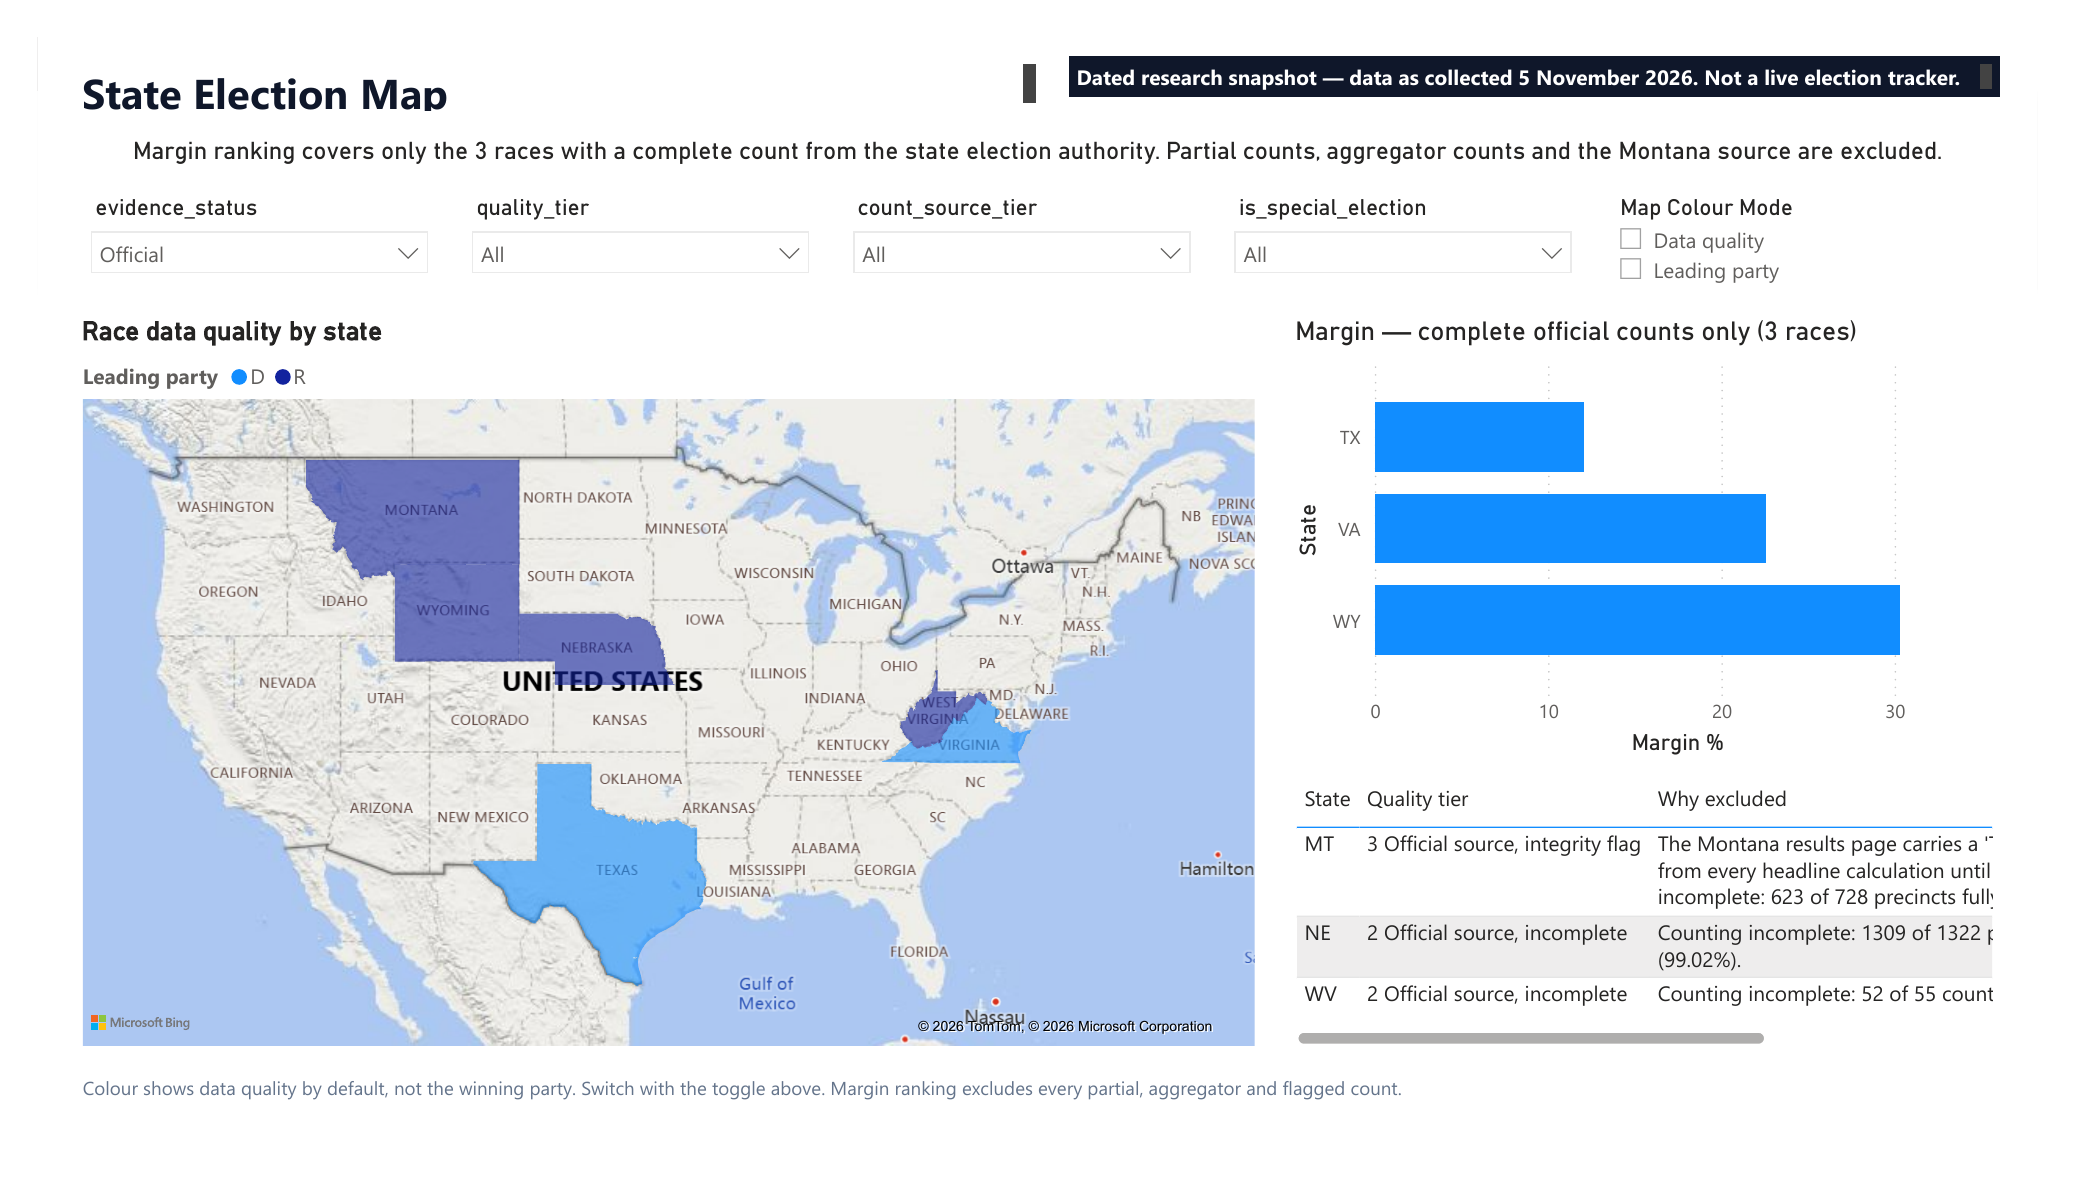

What the dashboard file says about the page in this screenshot:
{"tool":"powerbi","page":{"name":"State Election Map","canvas":[1280,720],"ordinal":1},"visuals":[{"type":"textbox","box":[24,12,620,40],"z":0},{"type":"card","fields":{"Values":["_Measures.Margin Rank Note"]},"box":[24.3,51.4,1231.4,44.3],"z":1000},{"type":"slicer","fields":{"Values":["RaceQualityFlags.evidence_status"]},"box":[24,96,236,70],"z":2000},{"type":"slicer","fields":{"Values":["RaceQualityFlags.quality_tier"]},"box":[268,96,236,70],"z":3000},{"type":"slicer","fields":{"Values":["RaceQualityFlags.count_source_tier"]},"box":[512,96,236,70],"z":4000},{"type":"slicer","fields":{"Values":["DimRace.is_special_election"]},"box":[756,96,236,70],"z":5000},{"type":"slicer","fields":{"Values":["Map Colour Mode.Map Colour Mode"]},"box":[1000,96,256,70],"z":6000},{"type":"filledMap","title":"Race data quality by state","fields":{"Category":["DimState.state_name"],"Series":["FactRaceResult.leading_candidate_party"]},"box":[24,178,760,472],"z":7000},{"type":"clusteredBarChart","title":"Margin — complete official counts only (3 races)","fields":{"Category":["DimRace.state_postal"],"Y":["Sum(FactRaceResult.margin_pct)"]},"box":[800,178,456,286],"z":8000},{"type":"tableEx","fields":{"Values":["DimRace.state_postal","RaceQualityFlags.quality_tier","RaceQualityFlags.exclusion_reason"]},"box":[800,472,456,178],"z":9000},{"type":"textbox","box":[24,658,1232,48],"z":10000},{"type":"textbox","box":[660,12,596,26],"z":11000}]}

Visuals, with their boxes on the page's 1280x720 design canvas (x1, y1, x2, y2). These are canvas units, not pixel positions in the 2075x1200 screenshot, which may show the page scaled, cropped or inside an application window:
textbox: left=24, top=12, right=644, bottom=52
card - _Measures.Margin Rank Note: left=24, top=51, right=1256, bottom=96
slicer - RaceQualityFlags.evidence_status: left=24, top=96, right=260, bottom=166
slicer - RaceQualityFlags.quality_tier: left=268, top=96, right=504, bottom=166
slicer - RaceQualityFlags.count_source_tier: left=512, top=96, right=748, bottom=166
slicer - DimRace.is_special_election: left=756, top=96, right=992, bottom=166
slicer - Map Colour Mode.Map Colour Mode: left=1000, top=96, right=1256, bottom=166
"Race data quality by state" filledMap: left=24, top=178, right=784, bottom=650
"Margin — complete official counts only (3 races)" clusteredBarChart: left=800, top=178, right=1256, bottom=464
tableEx - DimRace.state_postal x RaceQualityFlags.quality_tier: left=800, top=472, right=1256, bottom=650
textbox: left=24, top=658, right=1256, bottom=706
textbox: left=660, top=12, right=1256, bottom=38
